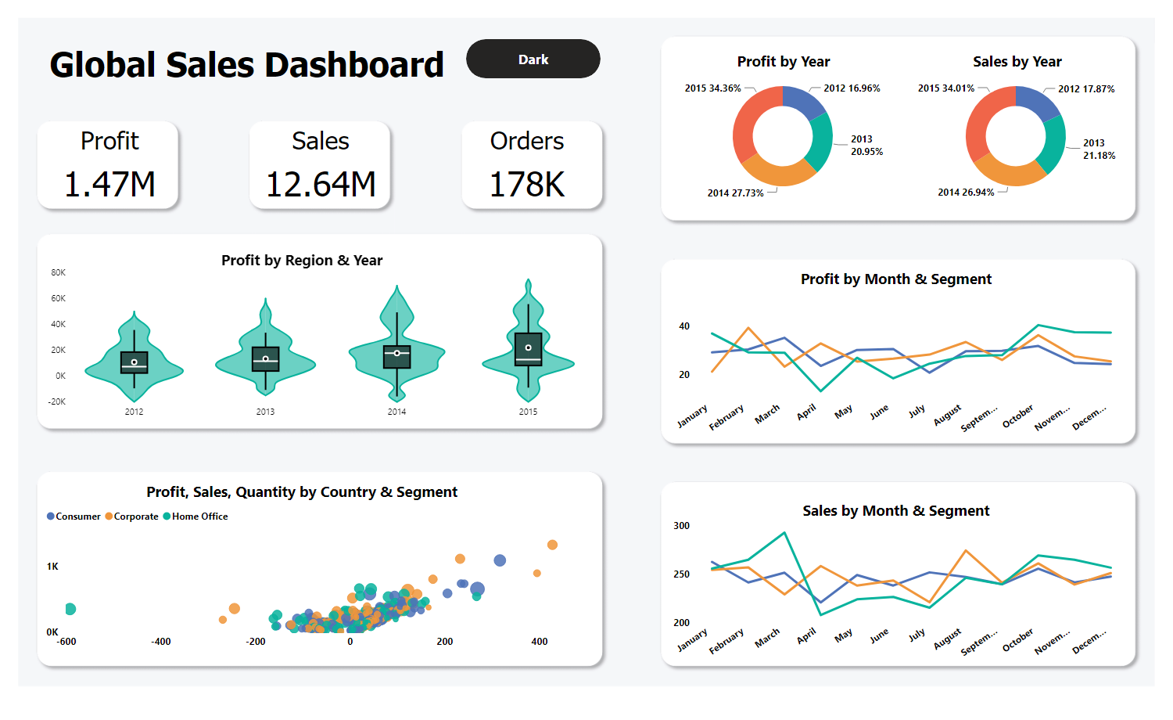

The dashboard page shown, as its layout file describes it:
{"tool":"powerbi","page":{"name":"Light","canvas":[1500,900],"ordinal":1},"visuals":[{"type":"card","fields":{"Values":["Sum(Orders.Profit)"]},"box":[64,202,152,62],"z":0},{"type":"card","fields":{"Values":["Sum(Orders.Sales)"]},"box":[332,202,156,62],"z":1},{"type":"card","fields":{"Values":["Sum(Orders.Quantity)"]},"box":[596,202,154,62],"z":2},{"type":"textbox","box":[46,154,188,80],"z":3},{"type":"textbox","box":[316,154,188,80],"z":4},{"type":"textbox","box":[580,154,188,80],"z":5},{"type":"scatterChart","fields":{"X":["Avg(Orders.Profit)"],"Y":["Avg(Orders.Sales)"],"Category":["Orders.Country"],"Size":["Avg(Orders.Quantity)"],"Series":["Orders.Segment"]},"box":[54,640,712,198],"z":6},{"type":"violinPlot4D46EB9EB3A141D9BA2289793175D971","fields":{"category":["Orders.Order Date.Variation.Date Hierarchy.Year"],"measure":["Sum(Orders.Profit)"],"sampling":["Orders.Region"]},"box":[54,338,712,206],"z":7},{"type":"lineChart","fields":{"Category":["Orders.Order Date.Variation.Date Hierarchy.Month"],"Y":["Avg(Orders.Profit)"],"Series":["Orders.Segment"]},"box":[848,372,596,194],"z":8},{"type":"lineChart","fields":{"Category":["Orders.Order Date.Variation.Date Hierarchy.Month"],"Y":["Avg(Orders.Sales)"],"Series":["Orders.Segment"]},"box":[848,658,596,194],"z":9},{"type":"textbox","box":[140,610,492,48],"z":10},{"type":"textbox","box":[900,634,492,48],"z":11},{"type":"textbox","box":[900,338,492,48],"z":12},{"type":"textbox","box":[140,314,492,48],"z":13},{"type":"donutChart","fields":{"Category":["Orders.Order Date.Variation.Date Hierarchy.Year"],"Y":["Sum(Orders.Profit)"]},"box":[856,84,290,180],"z":14},{"type":"donutChart","fields":{"Category":["Orders.Order Date.Variation.Date Hierarchy.Year"],"Y":["Sum(Orders.Sales)"]},"box":[1154,84,290,180],"z":15},{"type":"textbox","box":[802,60,400,48],"z":16},{"type":"textbox","box":[1128,60,346,48],"z":17},{"type":"textbox","box":[40,50,552,70],"z":18},{"type":"pageNavigator","box":[596,50,172,50],"z":19}]}

Visuals, with their boxes in screenshot pixels (x1, y1, x2, y2), scaled from the page's 1500x900 canvas onto the 1173x720 screenshot:
card - Sum(Orders.Profit): 50/162/169/211
card - Sum(Orders.Sales): 260/162/382/211
card - Sum(Orders.Quantity): 466/162/586/211
textbox: 36/123/183/187
textbox: 247/123/394/187
textbox: 454/123/601/187
scatterChart - Avg(Orders.Profit) x Avg(Orders.Sales): 42/512/599/670
violinPlot4D46EB9EB3A141D9BA2289793175D971 - Orders.Order Date.Variation.Date Hierarchy.Year x Sum(Orders.Profit): 42/270/599/435
lineChart - Orders.Order Date.Variation.Date Hierarchy.Month x Avg(Orders.Profit): 663/298/1129/453
lineChart - Orders.Order Date.Variation.Date Hierarchy.Month x Avg(Orders.Sales): 663/526/1129/682
textbox: 109/488/494/526
textbox: 704/507/1089/546
textbox: 704/270/1089/309
textbox: 109/251/494/290
donutChart - Orders.Order Date.Variation.Date Hierarchy.Year x Sum(Orders.Profit): 669/67/896/211
donutChart - Orders.Order Date.Variation.Date Hierarchy.Year x Sum(Orders.Sales): 902/67/1129/211
textbox: 627/48/940/86
textbox: 882/48/1153/86
textbox: 31/40/463/96
pageNavigator: 466/40/601/80
